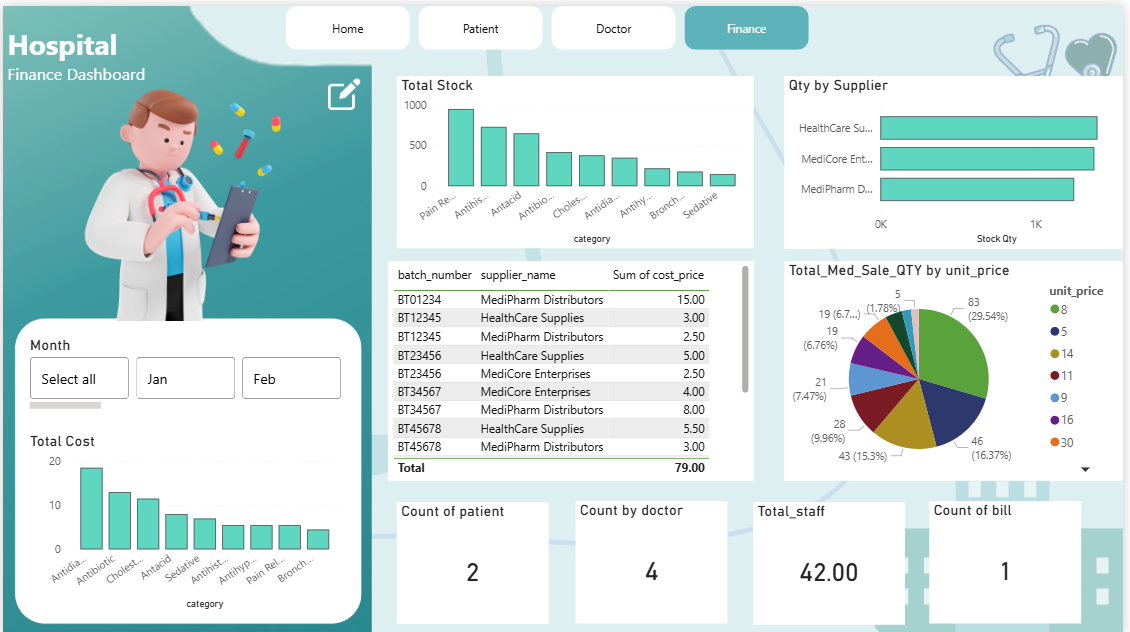

Layout of this report page (visuals, bound fields, positions):
{"tool":"powerbi","page":{"name":"Finance","canvas":[1280,720],"ordinal":3},"visuals":[{"type":"image","box":[68.8,79.7,281.3,279.8],"z":0},{"type":"textbox","box":[0,16.7,225,96.7],"z":1000},{"type":"image","box":[371.7,70,36.7,61.7],"z":2000},{"type":"pageNavigator","box":[323.3,0,600,50],"z":3000},{"type":"advancedSlicerVisual","fields":{"Values":["Calendar.Month"]},"box":[25,376.7,367.3,90.7],"z":5000},{"type":"columnChart","title":"Total Cost","fields":{"Y":["Sum(medical_stock_info.cost_price)"],"Category":["medical_stock_info.category"]},"box":[25,487.7,365.7,207.9],"z":6000},{"type":"columnChart","title":"Total Stock","fields":{"Category":["medical_stock_info.category"],"Y":["Sum(medical_stock_info.stock_qty)"]},"box":[450.1,79.7,407.9,196.9],"z":7000},{"type":"clusteredBarChart","title":"Qty by Supplier","fields":{"Y":["Sum(medical_stock_info.stock_qty)"],"Category":["medical_stock_info.supplier_name"]},"box":[892.5,79.3,387.8,197.5],"z":8000},{"type":"pieChart","fields":{"Y":["_Measures.Total_Med_Sale_QTY"],"Category":["medical_stock_info.unit_price"]},"box":[892.5,291.2,387.8,250.9],"z":9000},{"type":"kpi","title":"Count of patient","fields":{"Indicator":["CountNonNull(appointments.patient_id)"],"TrendLine":["appointments.patient_id"]},"box":[450.1,567.4,173.5,139.1],"z":10000},{"type":"kpi","title":"Count by doctor","fields":{"Indicator":["CountNonNull(appointments.doctor_id)"],"TrendLine":["appointments.doctor_id"]},"box":[653.9,565.8,173.7,139.9],"z":11000},{"type":"kpi","title":"Count of bill","fields":{"Indicator":["Count(bills.bill_id)"],"TrendLine":["bills.patient_id"]},"box":[1058,565.8,173.7,139.9],"z":12000},{"type":"kpi","title":"Total_staff","fields":{"Indicator":["Sum(patient_info.department_total_staff)"],"TrendLine":["patient_info.department_total_staff"]},"box":[857.8,567,173.7,139.9],"z":13000},{"type":"tableEx","fields":{"Values":["medical_stock_info.batch_number","medical_stock_info.supplier_name","Sum(medical_stock_info.cost_price)"]},"box":[439.7,291.2,418.1,250.9],"z":14000}]}

Visuals, with their boxes in screenshot pixels (x1, y1, x2, y2), scaled from the page's 1280x720 canvas onto the 1130x632 screenshot:
image: x1=61 y1=70 x2=309 y2=316
textbox: x1=0 y1=15 x2=199 y2=100
image: x1=328 y1=61 x2=361 y2=116
pageNavigator: x1=285 y1=0 x2=815 y2=44
advancedSlicerVisual - Calendar.Month: x1=22 y1=331 x2=346 y2=410
"Total Cost" columnChart: x1=22 y1=428 x2=345 y2=611
"Total Stock" columnChart: x1=397 y1=70 x2=757 y2=243
"Qty by Supplier" clusteredBarChart: x1=788 y1=70 x2=1129 y2=243
pieChart - _Measures.Total_Med_Sale_QTY x medical_stock_info.unit_price: x1=788 y1=256 x2=1129 y2=476
"Count of patient" kpi: x1=397 y1=498 x2=551 y2=620
"Count by doctor" kpi: x1=577 y1=497 x2=731 y2=619
"Count of bill" kpi: x1=934 y1=497 x2=1087 y2=619
"Total_staff" kpi: x1=757 y1=498 x2=911 y2=621
tableEx - medical_stock_info.batch_number x medical_stock_info.supplier_name: x1=388 y1=256 x2=757 y2=476
